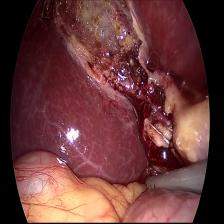Irrigator: (142, 168, 168, 198)
